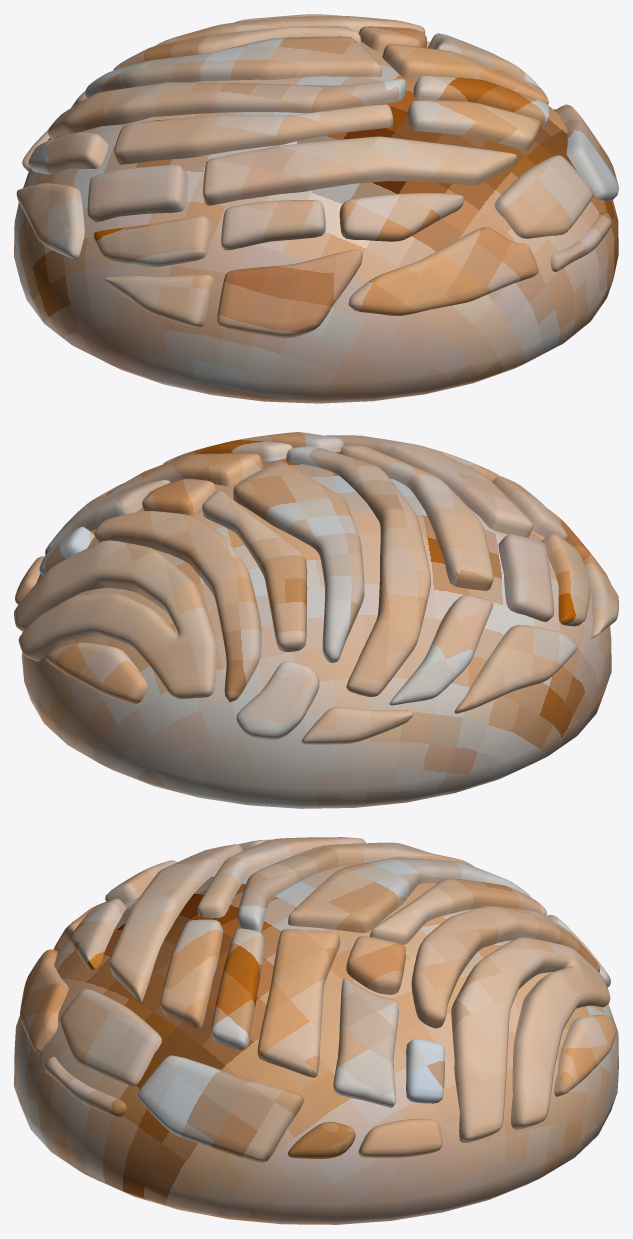
Rendered from AL_PanDulce.fbx.
3 renders of one model, top to bottom at view 1: azimuth 30°, elevation 25°; view 2: azimuth 150°, elevation 25°; view 3: azimuth 270°, elevation 25°, orthographic. The views are drawn at different scales.
Parts seen in each view (by area): view 1: cremoso; view 2: cremoso; view 3: cremoso.
Part boxes in pixels (x1,y1,x2,y2): cremoso: (14,14,618,403); cremoso: (14,432,618,808); cremoso: (14,837,618,1224).
Bounding box in the file's own units: 0.2869 × 0.1226 × 0.2904.
